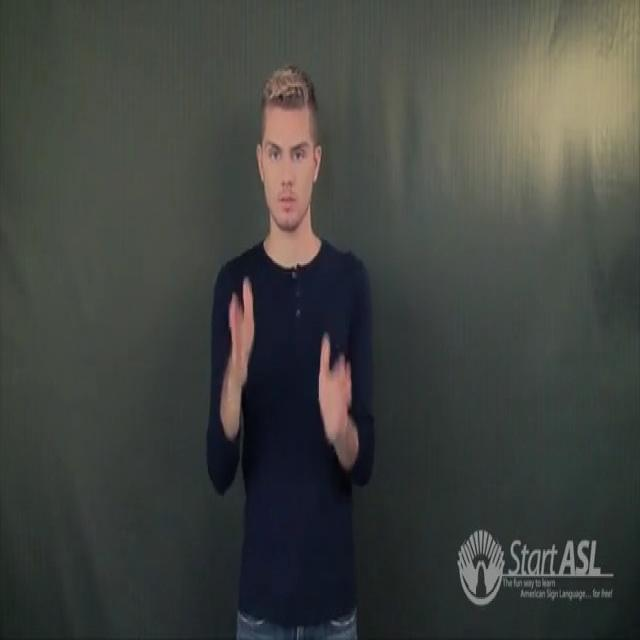manager: (217, 262, 366, 468)
